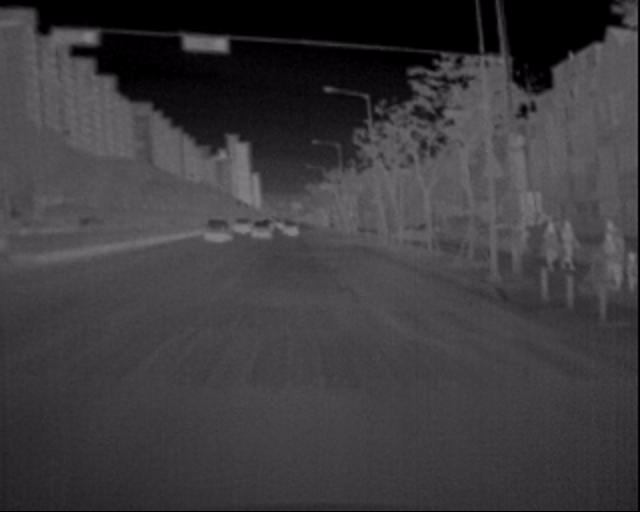person: (493, 198, 633, 315)
